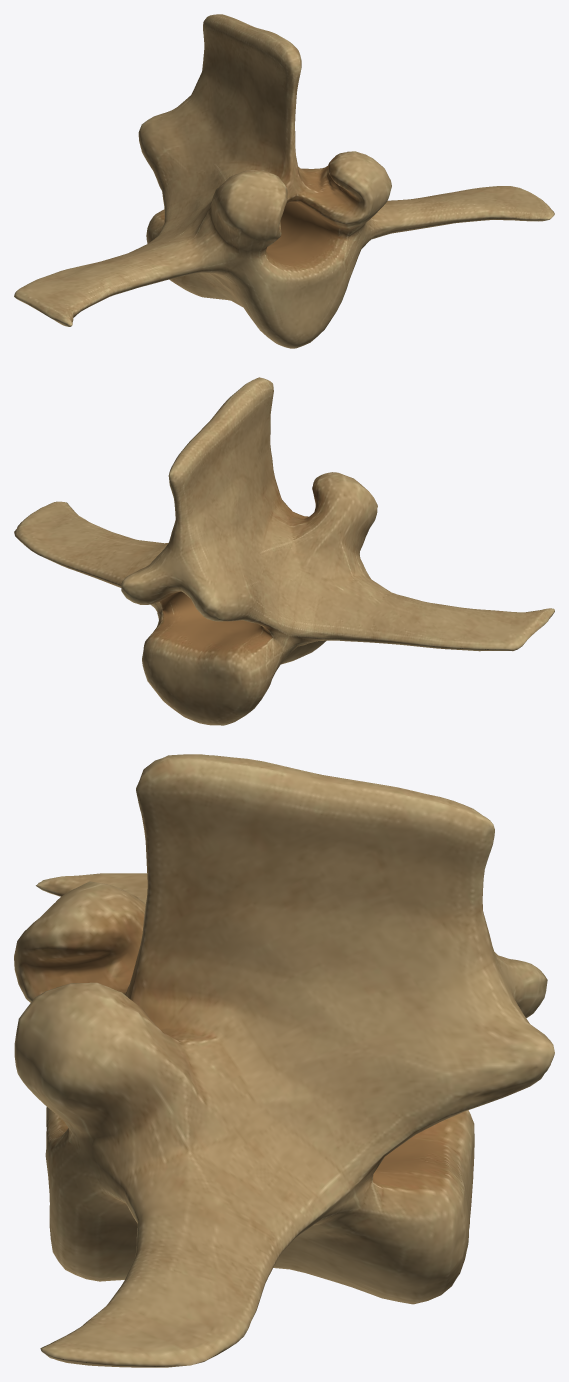
3 views of the same model, one above another, from view 1: azimuth 30°, elevation 25°; view 2: azimuth 150°, elevation 25°; view 3: azimuth 270°, elevation 25° (orthographic). The views are drawn at different scales.
Visible parts, largest first — view 1: Group56190; view 2: Group56190; view 3: Group56190.
Part boxes in pixels (x1,y1,x2,y2): Group56190: (14, 14, 554, 348); Group56190: (14, 377, 554, 725); Group56190: (14, 754, 554, 1367).
Bounding box in the file's own units: 128 × 70.46 × 62.64.
Materials: 1 (1 with a texture image).
